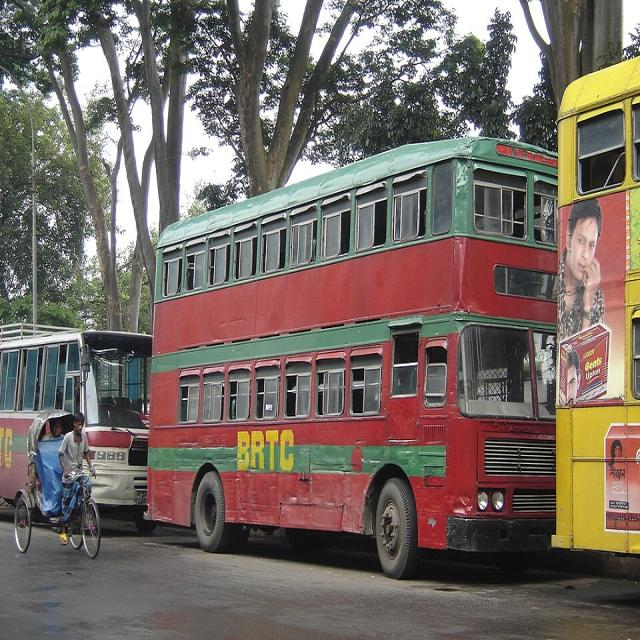Bus: (1, 291, 202, 563)
Double decker: (121, 112, 613, 597), (513, 34, 640, 594)
Rickshaw: (4, 386, 118, 576)
